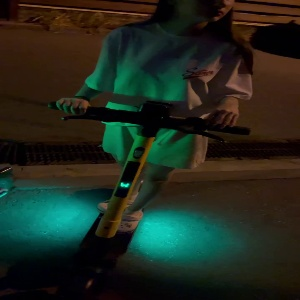human on a scooter: (42, 1, 256, 300)
